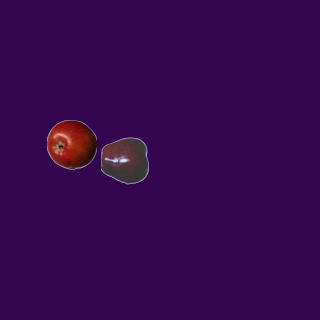Apple Braeburn: (46, 119, 96, 169)
Apple Red Delicious: (100, 135, 150, 185)
